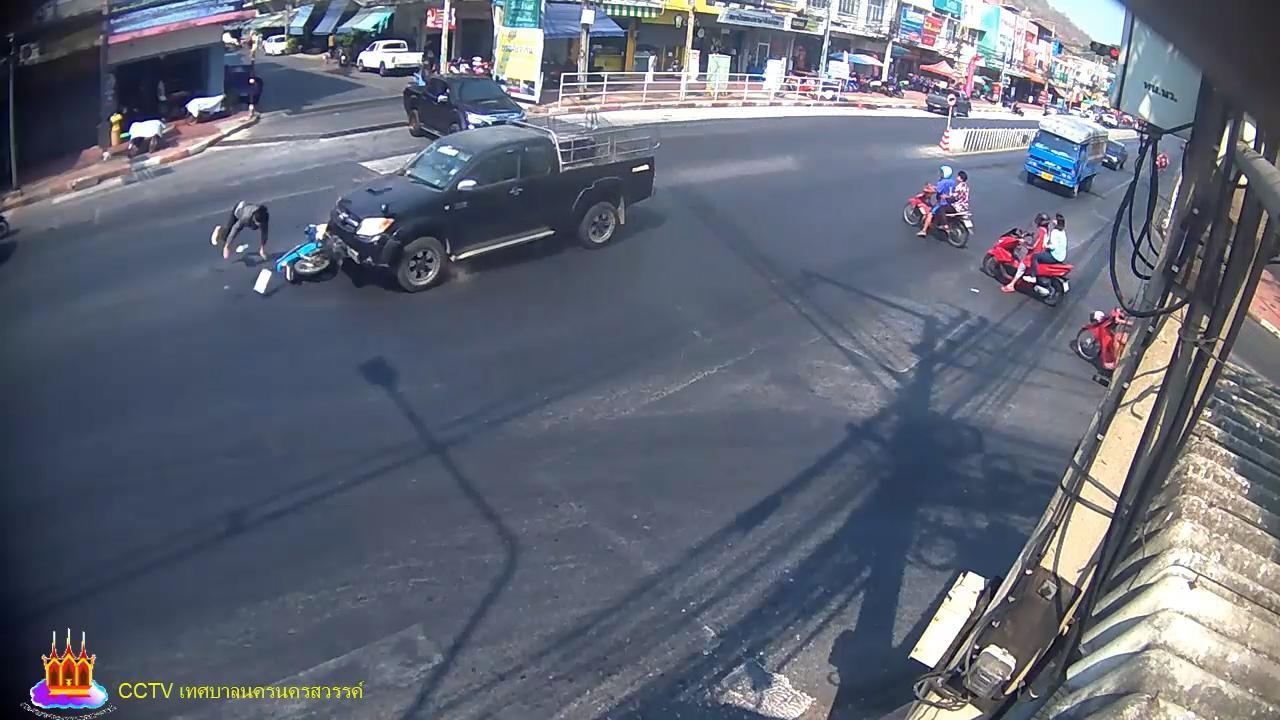accident: (211, 201, 275, 264)
